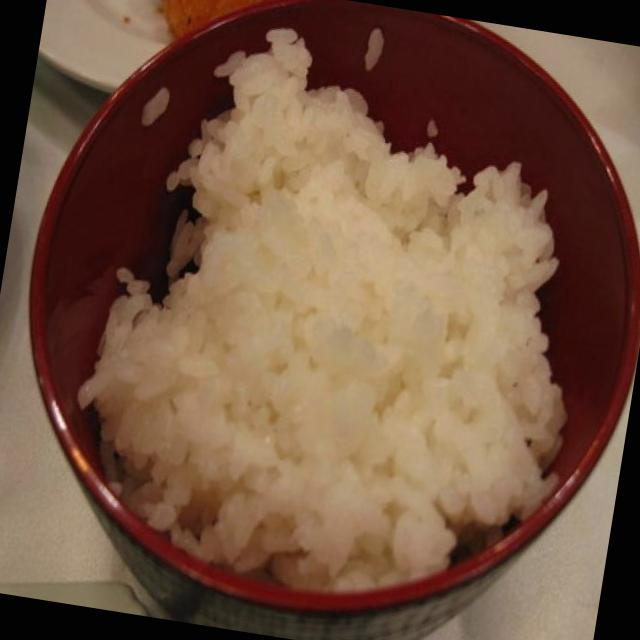Rice: (84, 79, 598, 588)
